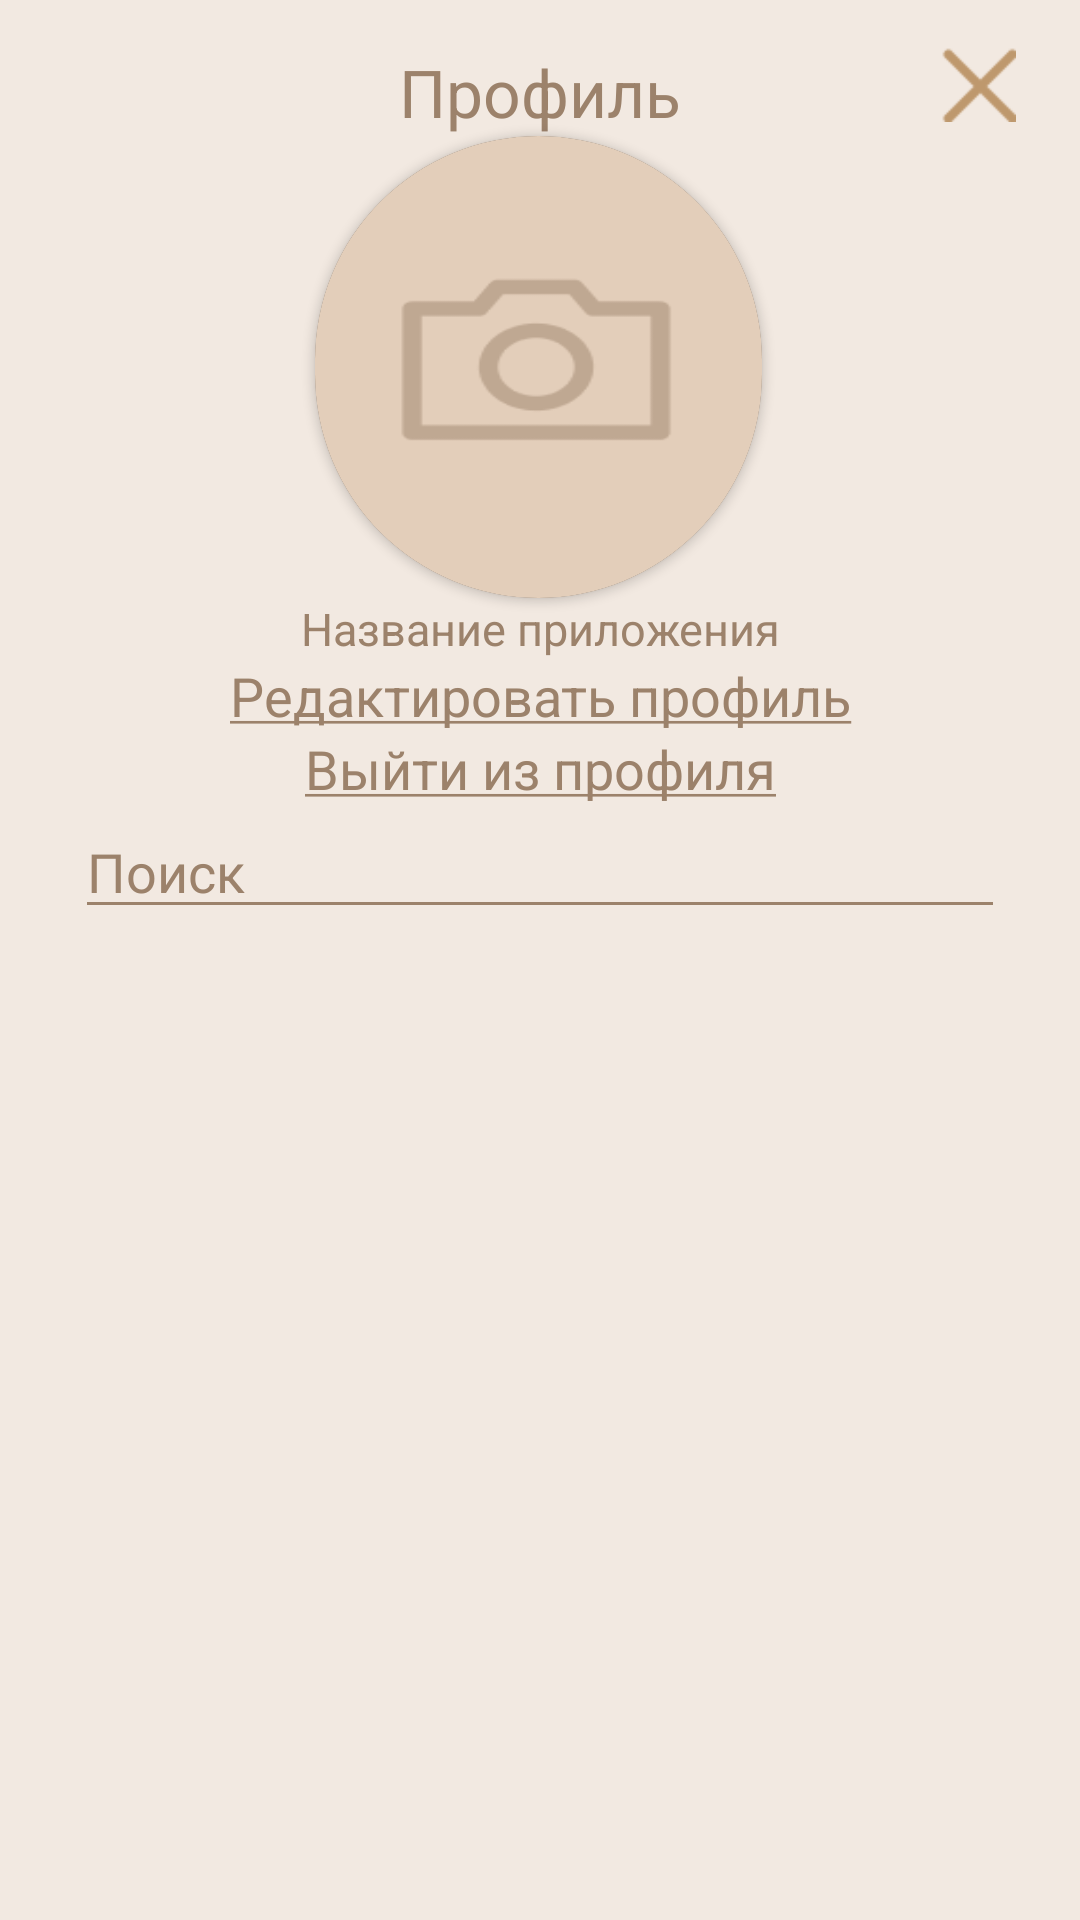

Icon bounding boxes for this 1080×1920 phone screenshot, format (x1, y1, x2, y2):
close: (943, 49, 1016, 122)
